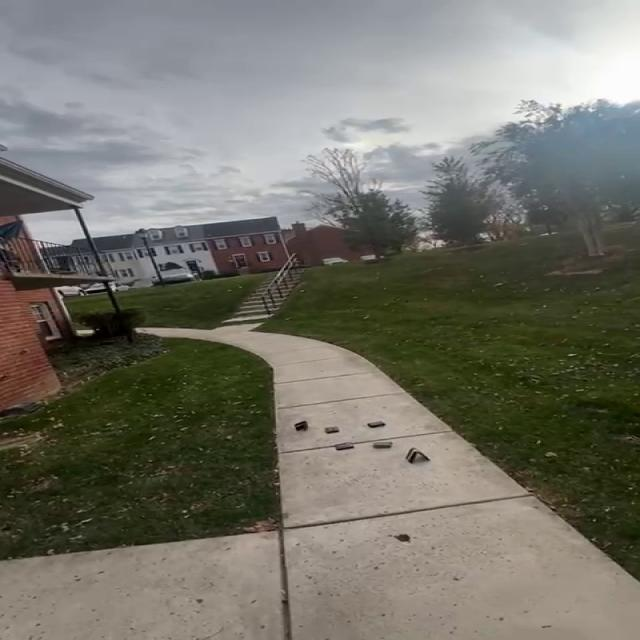wallet: (406, 447, 430, 464), (372, 441, 395, 449), (293, 421, 309, 431), (334, 442, 356, 449), (324, 426, 340, 434), (368, 421, 386, 428)
